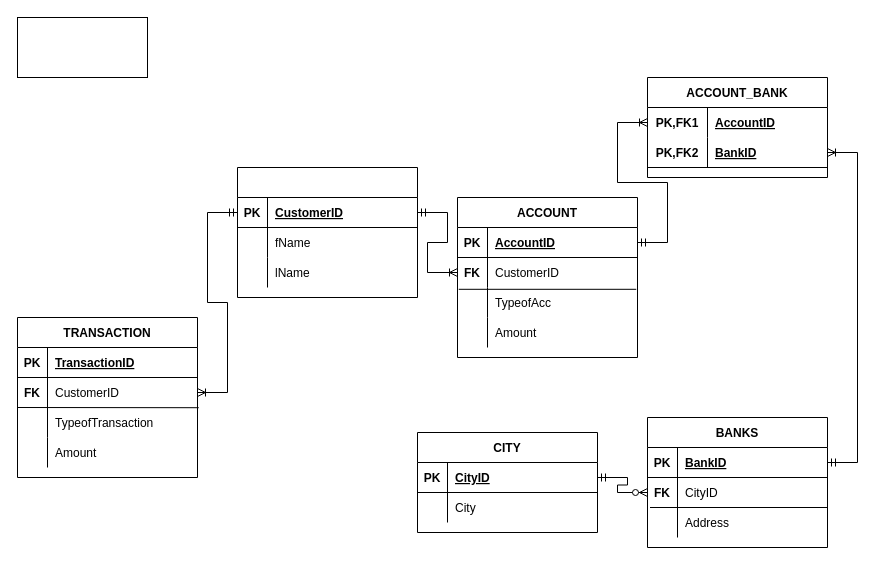
Some shapes in this 884 by 565 pixel diagram are drawn without their labels. The box of each missing label's shape, as (x1, y1, x2, y2) in pixels:
CUSTOMERS: (236, 166, 418, 298)
Name - Travis Liu Student ID - 156740201 Final ERD Question: (16, 16, 148, 78)
